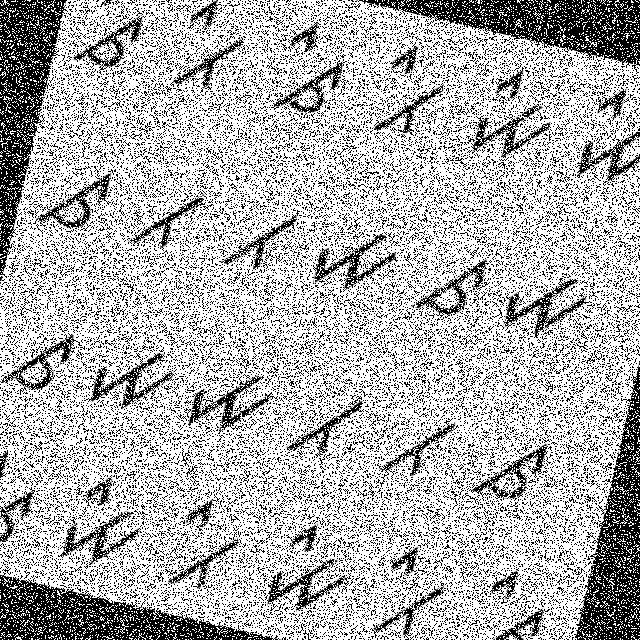ba: (119, 166, 214, 264), (214, 188, 306, 288), (276, 373, 372, 468), (370, 399, 463, 492)
bi: (159, 488, 253, 607), (362, 536, 458, 639), (365, 38, 454, 149), (166, 0, 257, 103)
ca: (459, 417, 558, 512), (25, 151, 116, 246), (405, 231, 494, 326), (0, 317, 80, 399)
ci: (262, 10, 357, 124), (463, 557, 561, 639), (63, 0, 155, 80), (0, 442, 51, 557)
ma: (492, 247, 594, 349), (76, 331, 180, 430), (304, 214, 402, 310), (176, 357, 276, 449)
mi: (250, 506, 358, 623), (47, 463, 152, 578), (466, 62, 566, 170), (564, 79, 639, 195)
